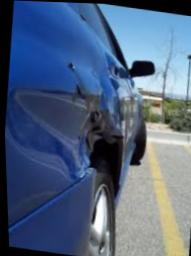Fender: (4, 56, 124, 187)
